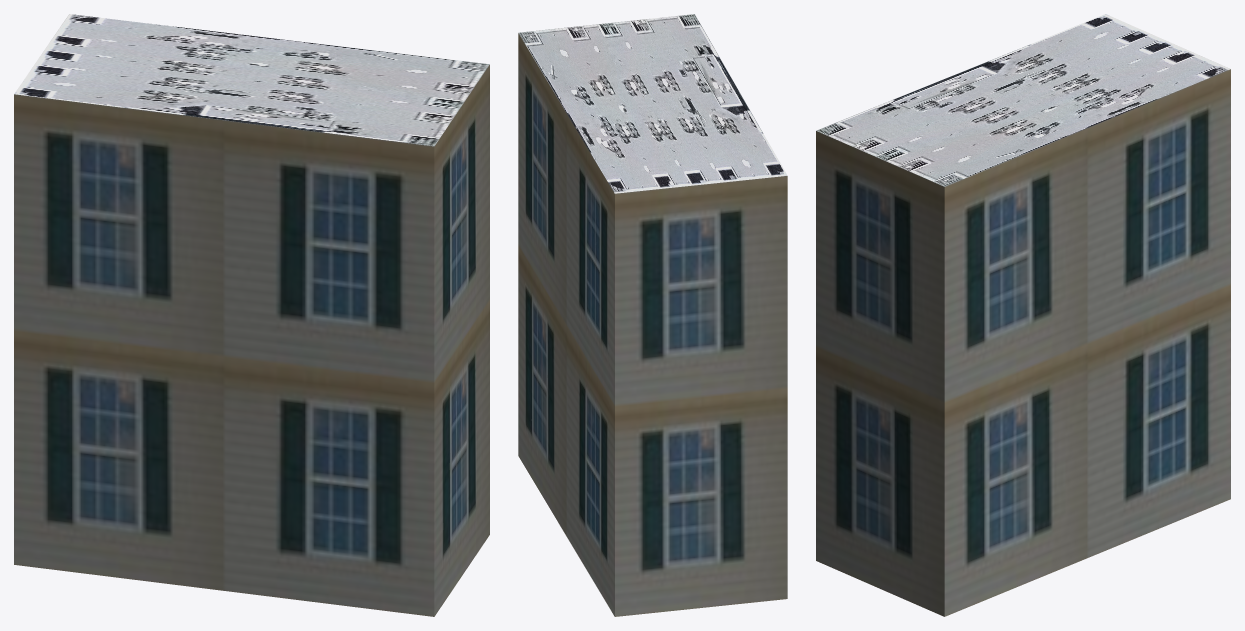
Rendered from ResTex__1433.fbx.
3 renders of one model, left to right at view 1: azimuth 30°, elevation 25°; view 2: azimuth 150°, elevation 25°; view 3: azimuth 270°, elevation 25°, orthographic. The views are drawn at different scales.
Visible parts, largest first — view 1: CityEngineMaterial_7_m, CityEngineMaterial_8_m; view 2: CityEngineMaterial_7_m, CityEngineMaterial_8_m; view 3: CityEngineMaterial_7_m, CityEngineMaterial_8_m.
Boxes of the visible parts, x1,y1,x2,y2 form: CityEngineMaterial_7_m: (14,64,489,616); CityEngineMaterial_8_m: (14,14,489,146); CityEngineMaterial_7_m: (518,33,787,616); CityEngineMaterial_8_m: (518,14,787,193); CityEngineMaterial_7_m: (816,69,1230,616); CityEngineMaterial_8_m: (816,14,1230,186).
Size of the model in its own units: 5.17 by 6 by 5.25.
2 materials, 2 textured.
